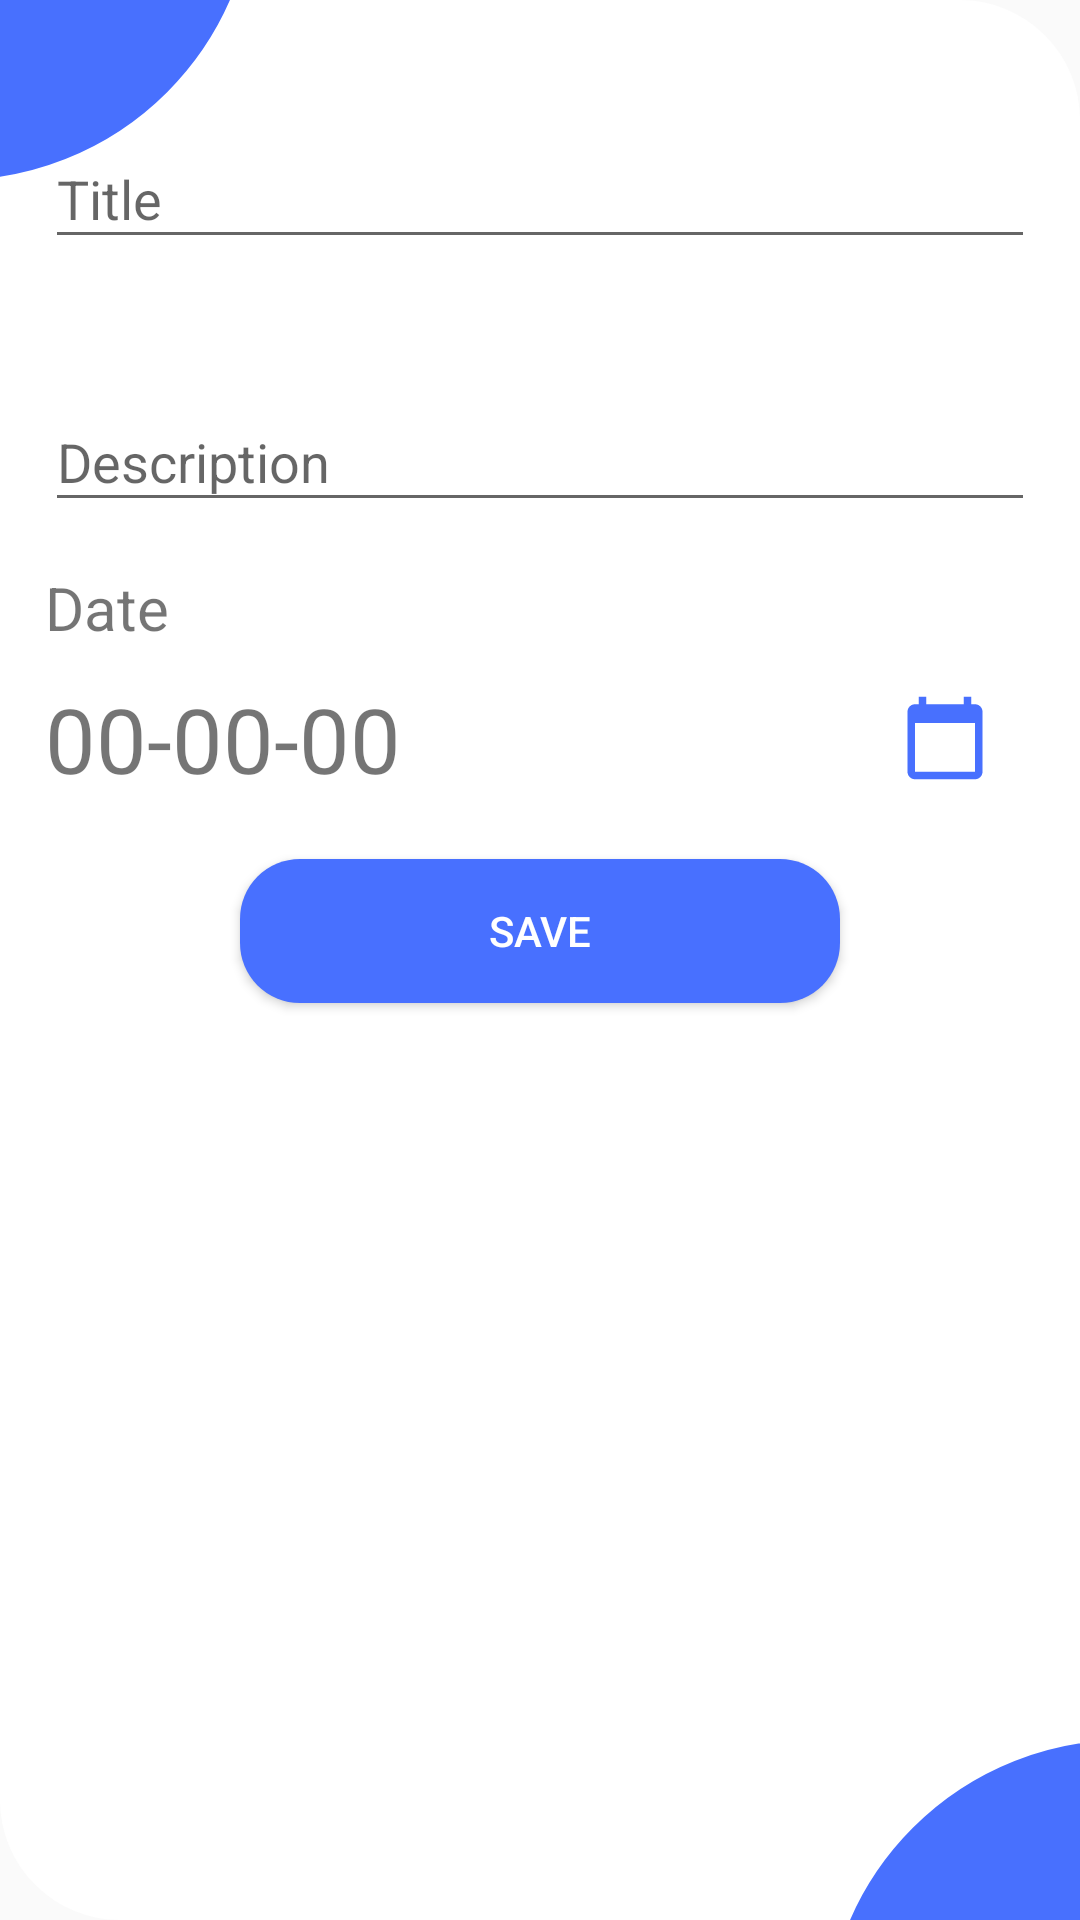

Icon bounding boxes for this 1080×1920 phone screenshot, format (x1, y1, x2, y2):
calendar today: (907, 696, 983, 780)
